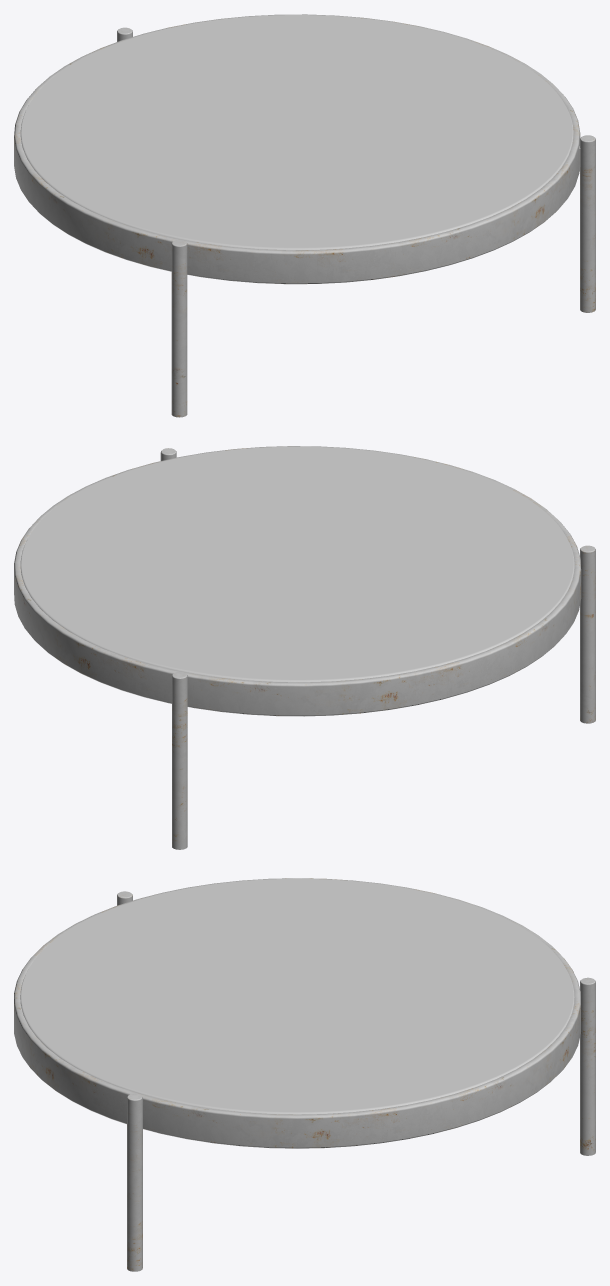
Rendered from SM_Table_A2.fbx.
The picture shows the model from 3 angles, top to bottom: view 1: azimuth 30°, elevation 25°; view 2: azimuth 150°, elevation 25°; view 3: azimuth 270°, elevation 25°; orthographic projection.
Parts seen in each view (by area): view 1: SM_Table_A2; view 2: SM_Table_A2; view 3: SM_Table_A2.
Part boxes in pixels (bbox=[...]): SM_Table_A2: bbox=[14, 14, 595, 417]; SM_Table_A2: bbox=[14, 446, 595, 849]; SM_Table_A2: bbox=[14, 878, 595, 1271].
Size of the model in its own units: 88.32 by 90.56 by 29.54.
Materials: 2 (1 with a texture image).
